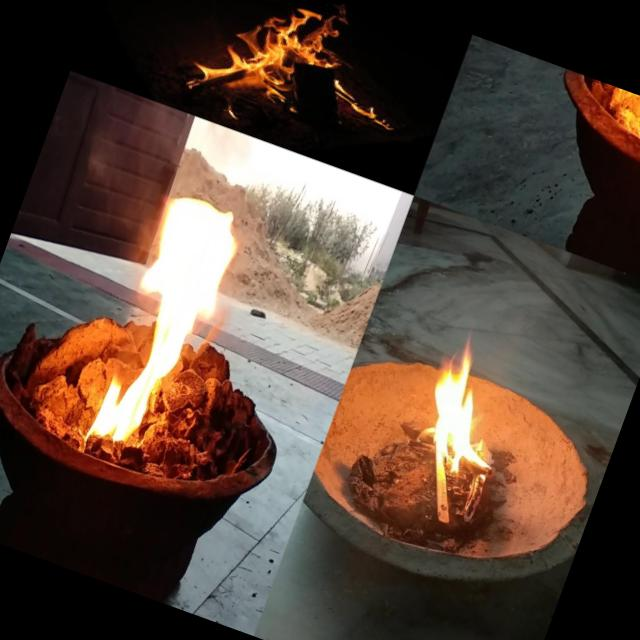fire: (75, 157, 262, 466), (179, 0, 423, 162), (404, 332, 540, 491), (575, 76, 640, 153)
smoke: (58, 84, 190, 246)
